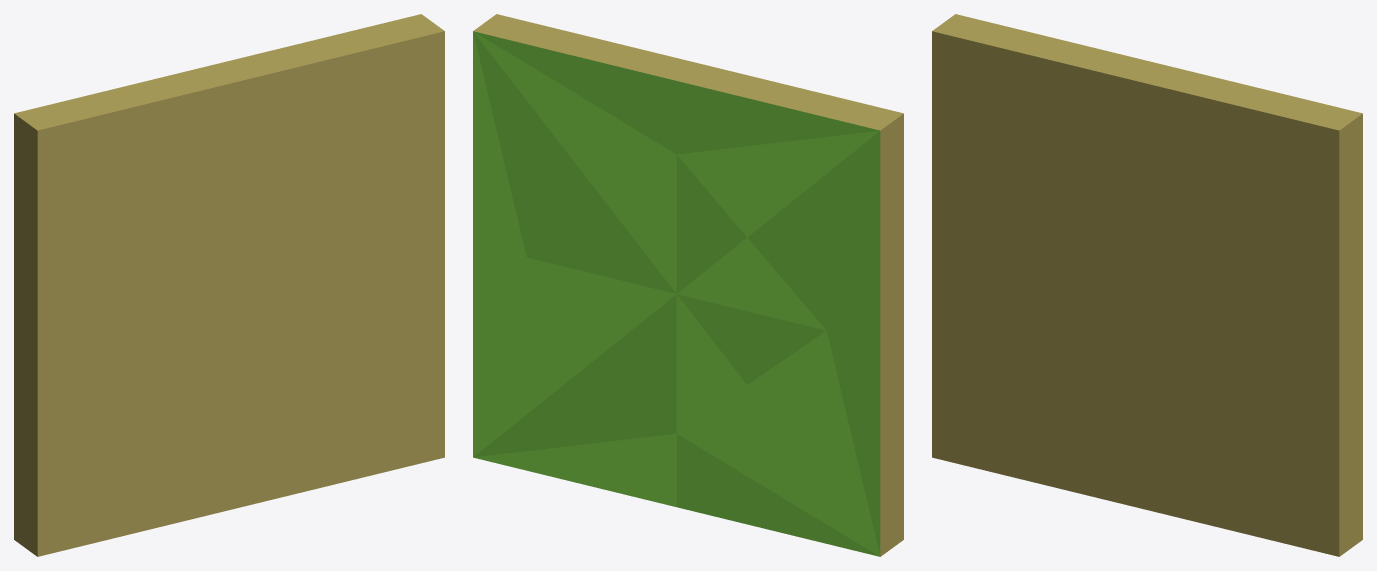
Rendered from Platform1Island2.fbx.
The picture shows the model from 3 angles, left to right: view 1: azimuth 30°, elevation 25°; view 2: azimuth 150°, elevation 25°; view 3: azimuth 330°, elevation 25°; orthographic projection.
Visible parts, largest first — view 1: Platform2Island2.001; view 2: Platform2Island2.001; view 3: Platform2Island2.001.
Boxes of the visible parts, x1,y1,x2,y2 form: Platform2Island2.001: [14, 14, 444, 556]; Platform2Island2.001: [473, 14, 903, 556]; Platform2Island2.001: [932, 14, 1362, 556].
Size of the model in its own units: 5 by 5 by 0.5.
